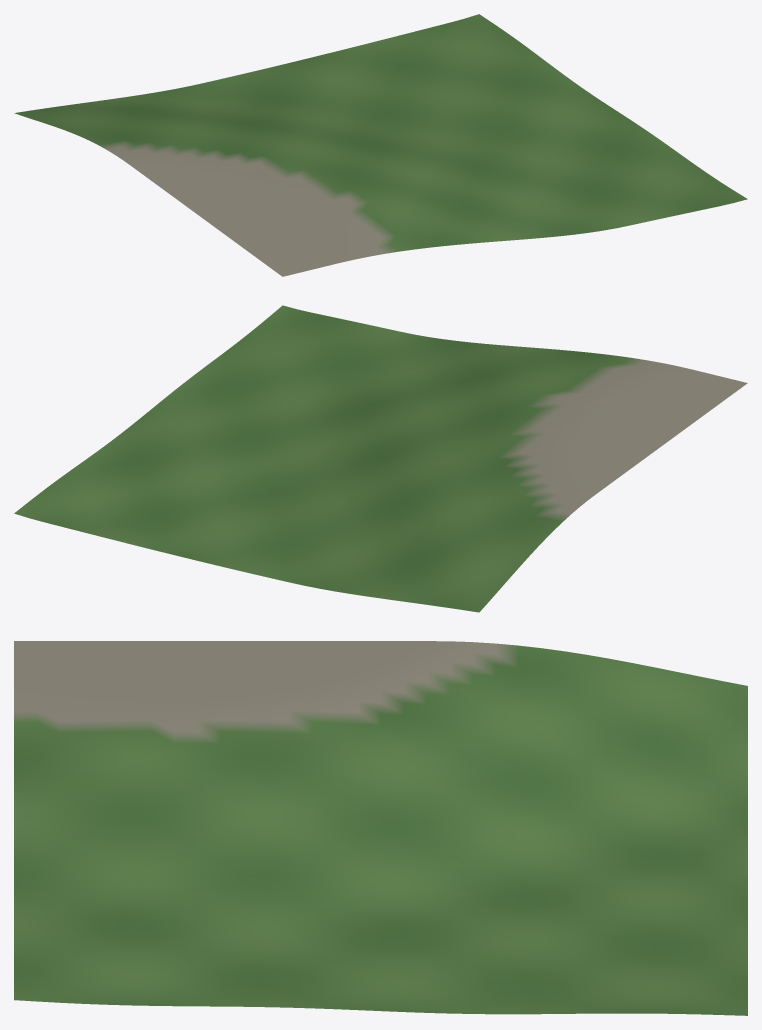
Rendered from chunk_11_10.glb.
The picture shows the model from 3 angles, top to bottom: view 1: azimuth 30°, elevation 25°; view 2: azimuth 150°, elevation 25°; view 3: azimuth 270°, elevation 25°; orthographic projection. The views are drawn at different scales.
Bounding box in the file's own units: 512 × 52.4 × 512.
